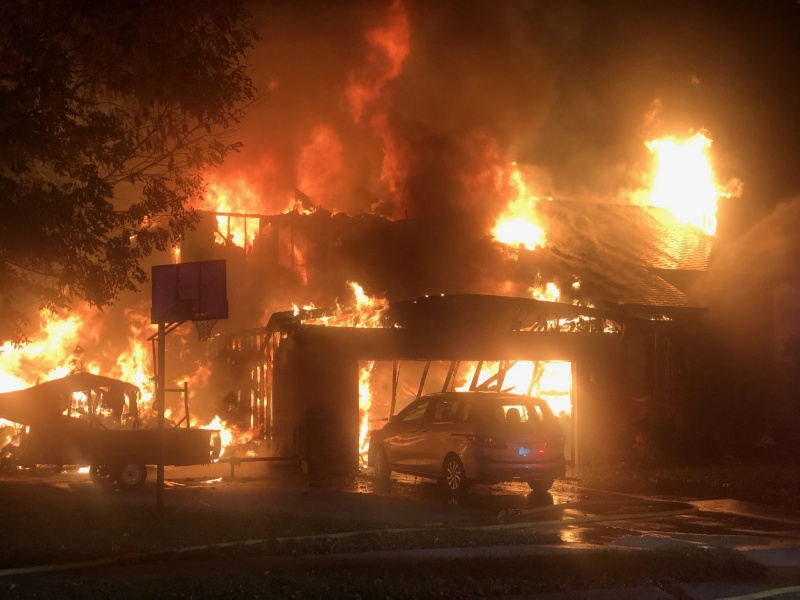fire: (1, 286, 151, 401), (632, 123, 746, 242), (448, 338, 587, 418), (474, 165, 556, 259), (347, 359, 388, 478), (330, 271, 398, 330), (207, 183, 266, 248), (163, 366, 199, 423), (527, 270, 571, 313), (207, 404, 238, 459), (291, 298, 316, 327)
